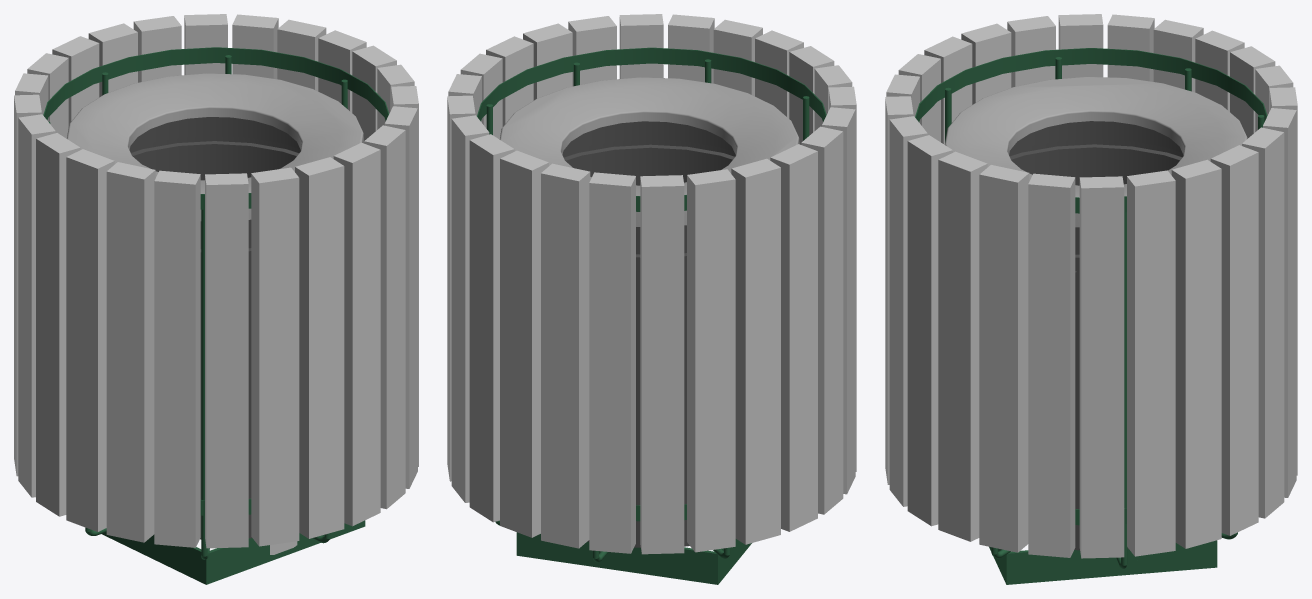
The picture shows the model from 3 angles, left to right: view 1: azimuth 30°, elevation 25°; view 2: azimuth 150°, elevation 25°; view 3: azimuth 270°, elevation 25°; orthographic projection.
Visible parts, largest first — view 1: mesh124_mesh124-geometry, mesh109_mesh109-geometry, mesh126_mesh126-geometry, mesh132_mesh132-geometry, mesh128_mesh128-geometry, mesh94_mesh94-geometry, mesh125_mesh125-geometry, mesh130_mesh130-geometry, mesh123_mesh123-geometry, mesh133_mesh133-geometry, mesh1_mesh1-geometry, mesh119_mesh119-geometry (+17 smaller); view 2: mesh120_mesh120-geometry, mesh129_mesh129-geometry, mesh111_mesh111-geometry, mesh127_mesh127-geometry, mesh122_mesh122-geometry, mesh121_mesh121-geometry, mesh94_mesh94-geometry, mesh119_mesh119-geometry, mesh140_mesh140-geometry, mesh1_mesh1-geometry, mesh123_mesh123-geometry, mesh139_mesh139-geometry (+16 smaller); view 3: mesh134_mesh134-geometry, mesh137_mesh137-geometry, mesh135_mesh135-geometry, mesh138_mesh138-geometry, mesh136_mesh136-geometry, mesh131_mesh131-geometry, mesh94_mesh94-geometry, mesh139_mesh139-geometry, mesh133_mesh133-geometry, mesh140_mesh140-geometry, mesh1_mesh1-geometry, mesh130_mesh130-geometry (+17 smaller).
Boxes of the visible parts, box(x1,y1,x2,y2) form: mesh124_mesh124-geometry: box(106, 162, 155, 542); mesh109_mesh109-geometry: box(251, 167, 299, 546); mesh126_mesh126-geometry: box(154, 170, 200, 547); mesh132_mesh132-geometry: box(295, 157, 344, 538); mesh128_mesh128-geometry: box(205, 173, 248, 548); mesh94_mesh94-geometry: box(67, 73, 364, 220); mesh125_mesh125-geometry: box(66, 149, 114, 531); mesh130_mesh130-geometry: box(333, 142, 380, 526); mesh123_mesh123-geometry: box(36, 133, 80, 516); mesh133_mesh133-geometry: box(364, 125, 405, 509); mesh1_mesh1-geometry: box(129, 117, 300, 539); mesh119_mesh119-geometry: box(18, 114, 55, 497); mesh120_mesh120-geometry: box(541, 163, 590, 548); mesh129_mesh129-geometry: box(687, 169, 735, 552); mesh111_mesh111-geometry: box(589, 172, 635, 553); mesh127_mesh127-geometry: box(731, 158, 780, 544); mesh122_mesh122-geometry: box(640, 175, 684, 554); mesh121_mesh121-geometry: box(500, 150, 548, 537); mesh94_mesh94-geometry: box(499, 77, 799, 226); mesh119_mesh119-geometry: box(770, 144, 817, 531); mesh140_mesh140-geometry: box(469, 134, 514, 522); mesh1_mesh1-geometry: box(562, 121, 735, 547); mesh123_mesh123-geometry: box(801, 126, 843, 514); mesh139_mesh139-geometry: box(451, 115, 489, 502); mesh134_mesh134-geometry: box(979, 165, 1029, 552); mesh137_mesh137-geometry: box(1127, 170, 1175, 556); mesh135_mesh135-geometry: box(1028, 173, 1075, 557); mesh138_mesh138-geometry: box(1171, 159, 1221, 548); mesh136_mesh136-geometry: box(1079, 176, 1124, 558); mesh131_mesh131-geometry: box(938, 151, 987, 541); mesh94_mesh94-geometry: box(945, 76, 1247, 227); mesh139_mesh139-geometry: box(1210, 145, 1258, 535); mesh133_mesh133-geometry: box(907, 135, 952, 526); mesh140_mesh140-geometry: box(1242, 127, 1284, 518); mesh1_mesh1-geometry: box(1009, 121, 1183, 550); mesh130_mesh130-geometry: box(889, 116, 927, 506).
Size of the model in its own units: 0.5484 by 0.6314 by 0.5484.
